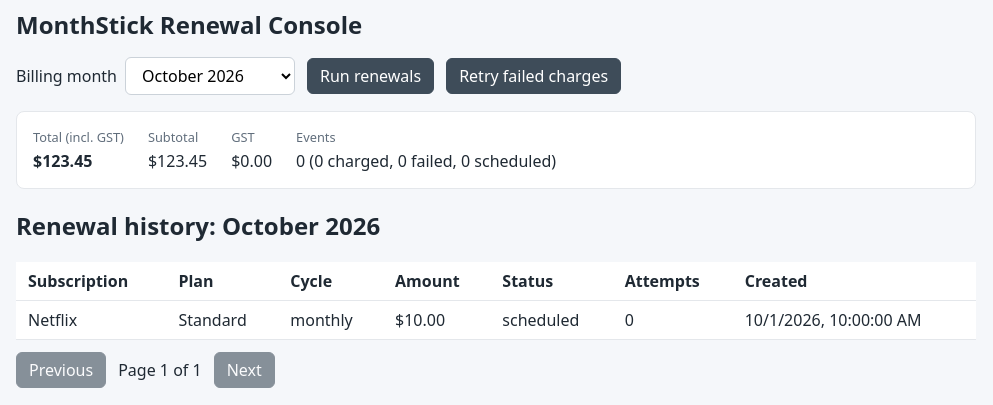
Test: App › loads history for a newly selected month
The width and height of the screenshot is (993, 405).
Expected: the text "Netflix" is shown, x1=16 y1=300 x2=166 y2=339
Select "November 2026" in the dropdown labelled "Billing month": (210,76) x1=125 y1=57 x2=295 y2=95
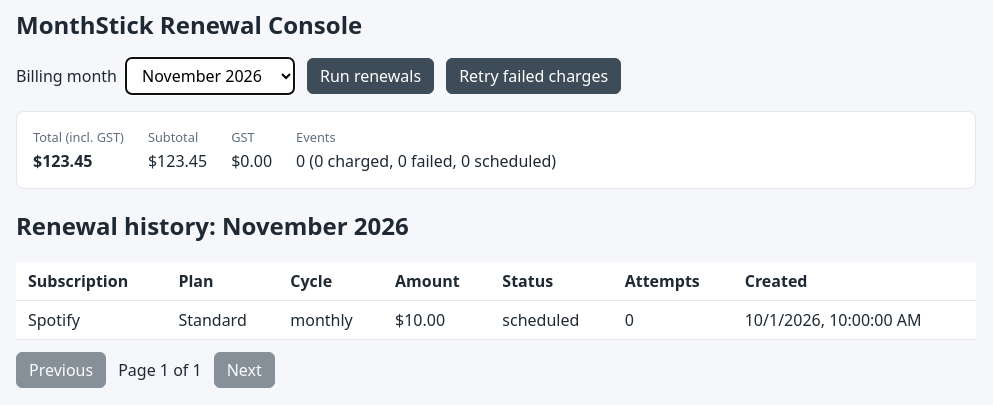
Now the text "Spotify" is shown, box x1=16 y1=300 x2=166 y2=339
Now the heading "Renewal history: November 2026" is shown, box x1=16 y1=209 x2=409 y2=242
